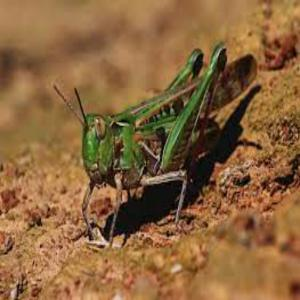locust: (81, 39, 259, 217)
